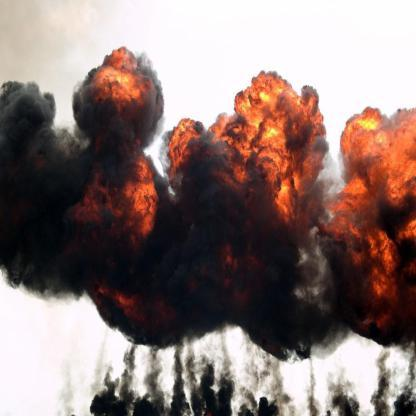smoke: (1, 88, 50, 280), (92, 222, 209, 294), (254, 229, 324, 346), (160, 140, 245, 224), (270, 88, 324, 208), (82, 70, 160, 151), (50, 134, 89, 290), (324, 242, 404, 318), (102, 378, 226, 414), (120, 296, 220, 337)
